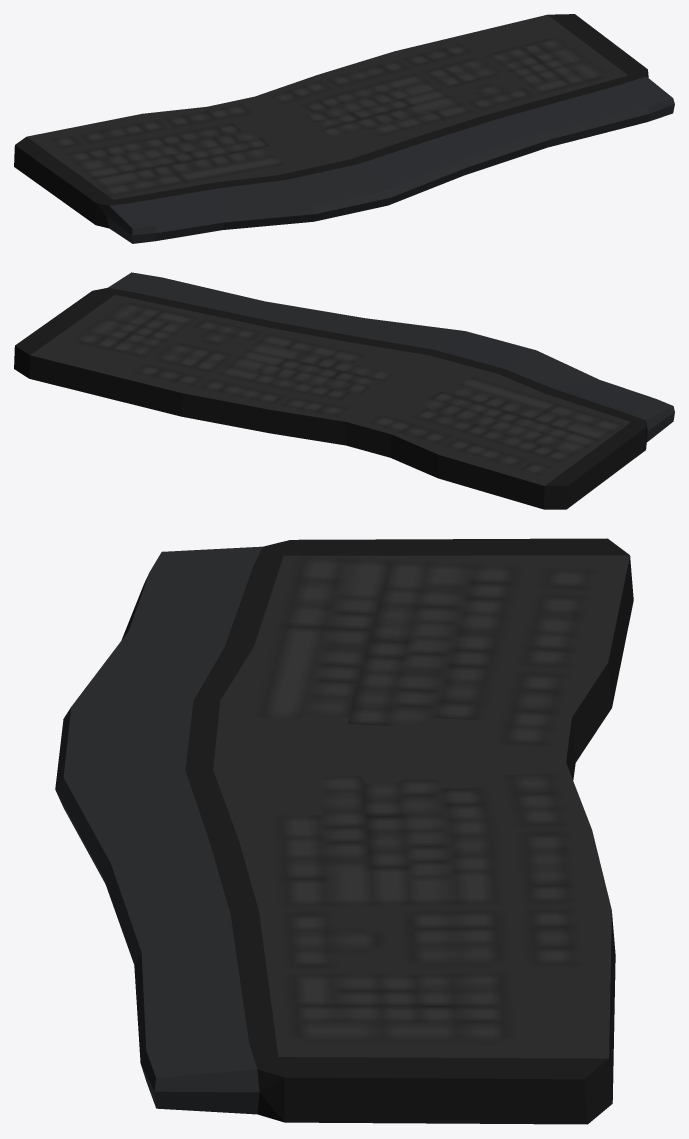
File: SM_Prop_Keyboard_01.fbx
3 views of the same model, one above another, from view 1: azimuth 30°, elevation 25°; view 2: azimuth 150°, elevation 25°; view 3: azimuth 270°, elevation 25° (orthographic). The views are drawn at different scales.
Parts seen in each view (by area): view 1: SM_Prop_Keyboard_01; view 2: SM_Prop_Keyboard_01; view 3: SM_Prop_Keyboard_01.
Part boxes in pixels (x1,y1,x2,y2): SM_Prop_Keyboard_01: (14, 14, 674, 243); SM_Prop_Keyboard_01: (14, 272, 674, 509); SM_Prop_Keyboard_01: (55, 538, 633, 1124).
Bounding box in the file's own units: 64.31 × 2.5 × 29.07.
